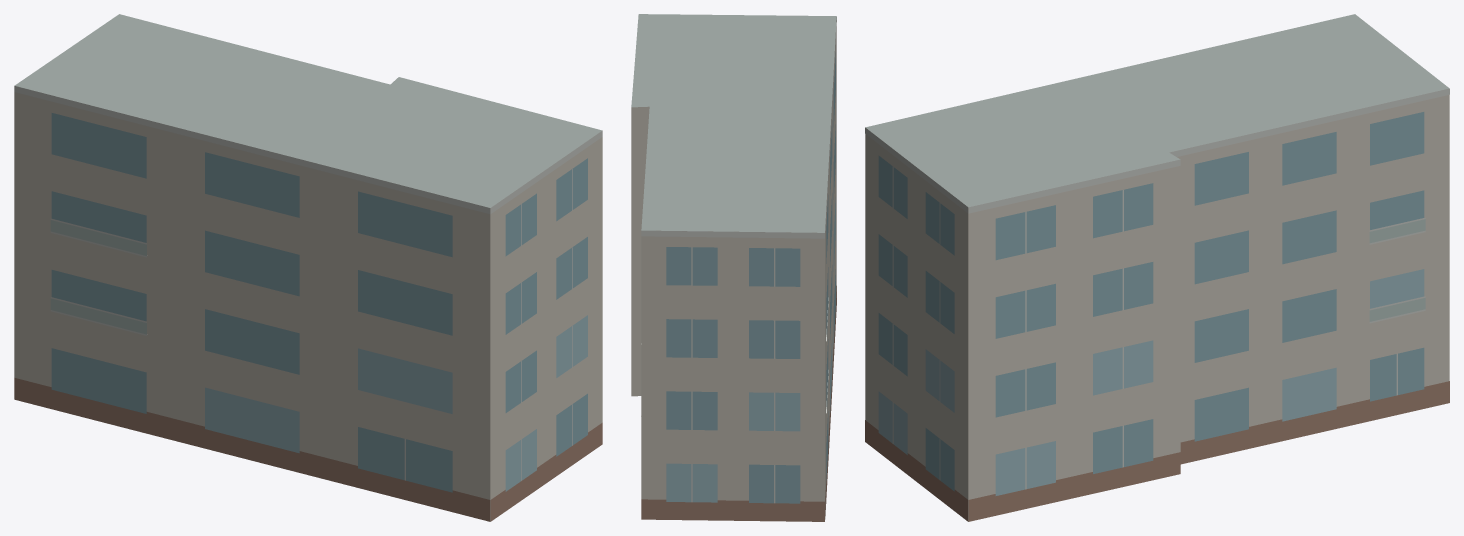
Rendered from survey-upis-32716749.glb.
3 renders of one model, left to right at view 1: azimuth 30°, elevation 25°; view 2: azimuth 150°, elevation 25°; view 3: azimuth 270°, elevation 25°, orthographic. The views are drawn at different scales.
Visible parts, largest first — view 1: survey-upis-32716749.tmp; view 2: survey-upis-32716749.tmp; view 3: survey-upis-32716749.tmp.
Part boxes in pixels (left/top/right/bottom): survey-upis-32716749.tmp: left=14, top=14, right=602, bottom=521; survey-upis-32716749.tmp: left=631, top=14, right=836, bottom=521; survey-upis-32716749.tmp: left=865, top=14, right=1449, bottom=521.
Bounding box in the file's own units: 16.1 × 12.2 × 20.56.
